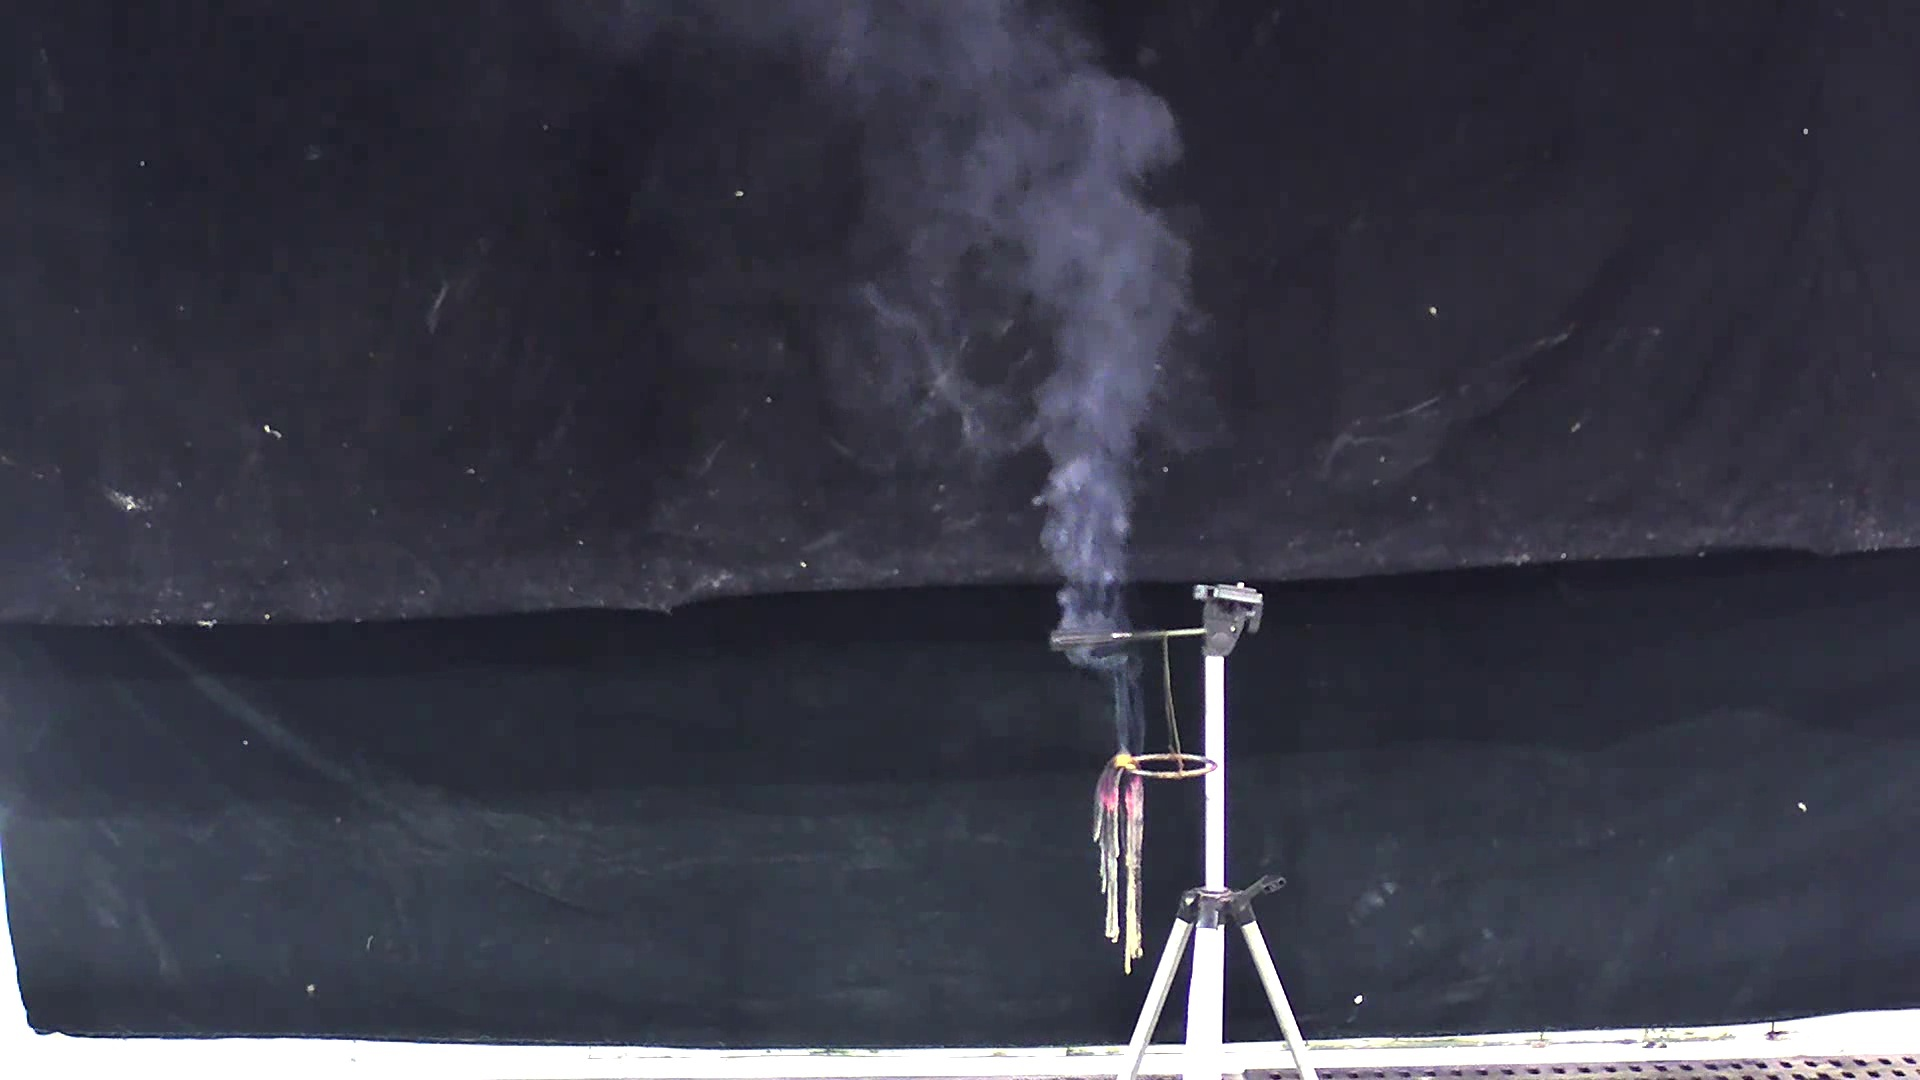smoke: (840, 16, 1192, 749)
